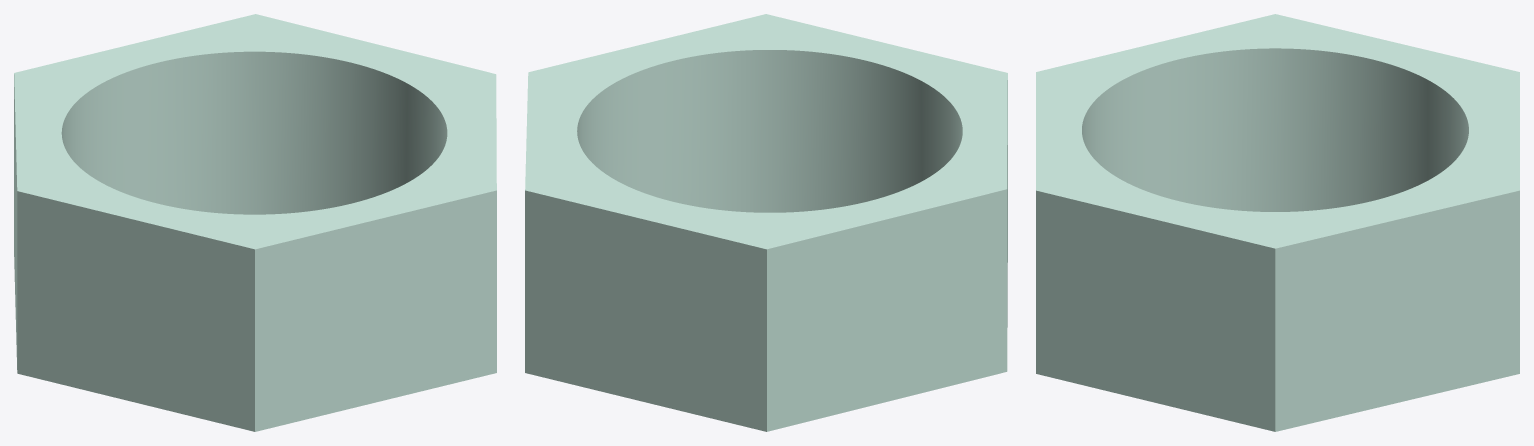
3 views of the same model, side by side, from view 1: azimuth 30°, elevation 25°; view 2: azimuth 150°, elevation 25°; view 3: azimuth 270°, elevation 25° (orthographic).
Parts seen in each view (by area): view 1: Renderer Node; view 2: Renderer Node; view 3: Renderer Node.
Boxes of the visible parts, x1=… form: Renderer Node: x1=14, y1=14, x2=496, y2=431; Renderer Node: x1=525, y1=14, x2=1007, y2=431; Renderer Node: x1=1036, y1=14, x2=1519, y2=431.
Size of the model in its own units: 0.6006 by 0.2188 by 0.5234.
